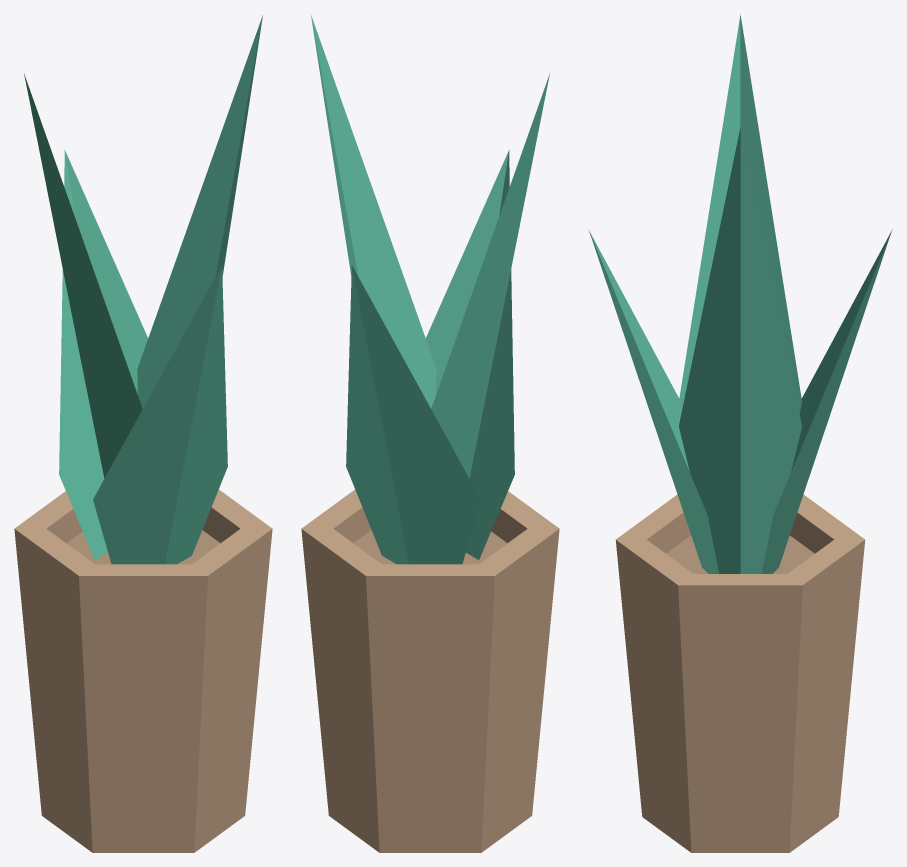
Rendered from pottedPlant.glb.
The picture shows the model from 3 angles, left to right: view 1: azimuth 30°, elevation 25°; view 2: azimuth 150°, elevation 25°; view 3: azimuth 270°, elevation 25°; orthographic projection. The views are drawn at different scales.
Visible parts, largest first — view 1: pottedPlant; view 2: pottedPlant; view 3: pottedPlant.
Boxes of the visible parts, bbox=[...] form: pottedPlant: bbox=[14, 15, 272, 852]; pottedPlant: bbox=[301, 15, 559, 852]; pottedPlant: bbox=[588, 14, 892, 852].
Size of the model in its own units: 0.2121 by 0.654 by 0.2415.
